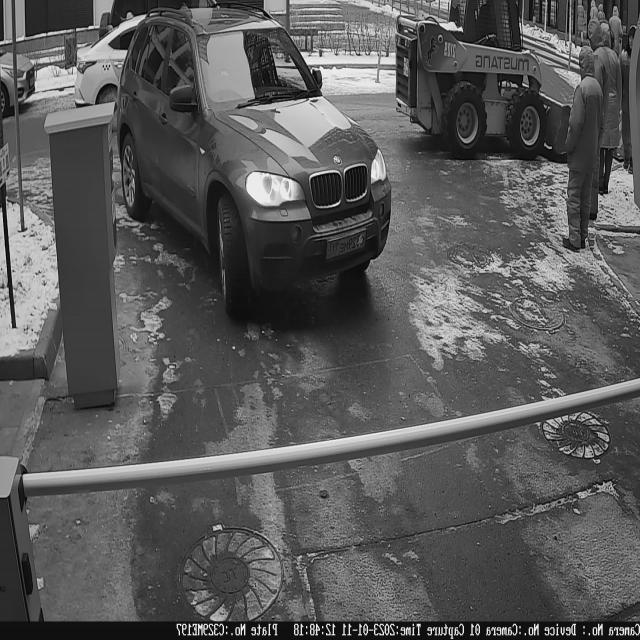car-plate-numbers: (326, 228, 371, 265)
